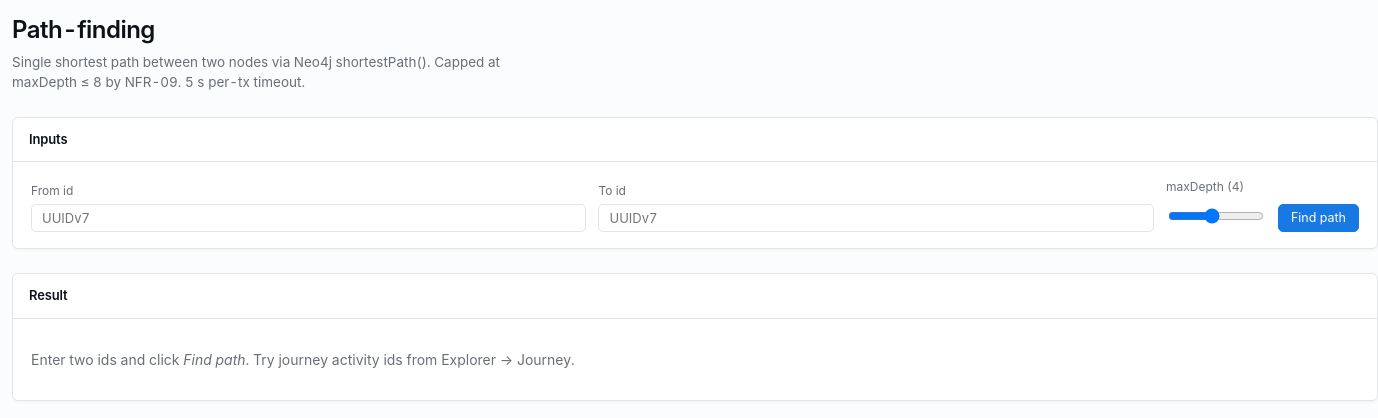
Test: ExplorerPath (FR-10 / AC-07) › (d) query_timeout → friendly banner
Type "node-a" into the field with test id "path-from" at point(309, 218), box top-left (31, 204), bottom-right (586, 232)
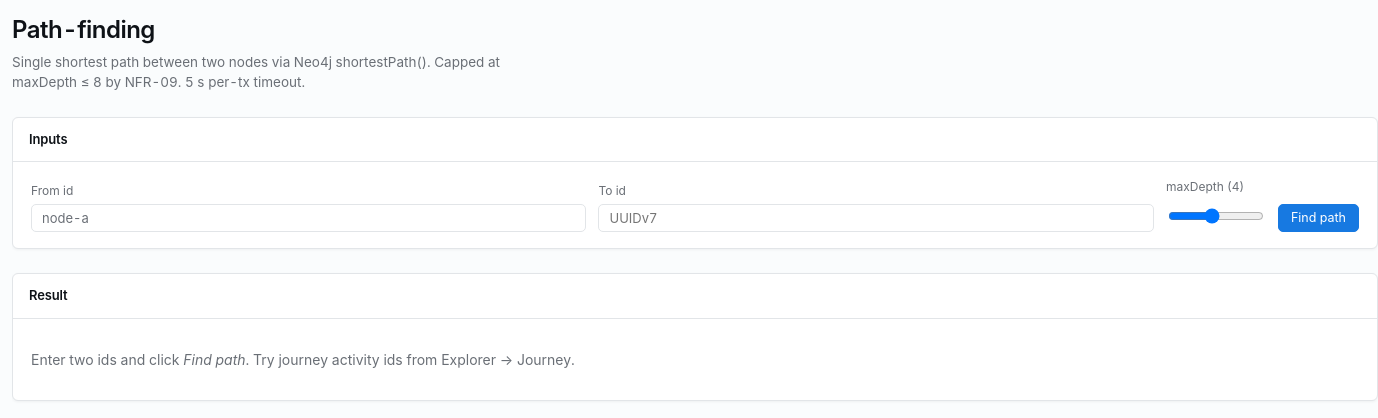
Type "node-b" into the field with test id "path-to" at point(876, 218), box top-left (598, 204), bottom-right (1154, 232)
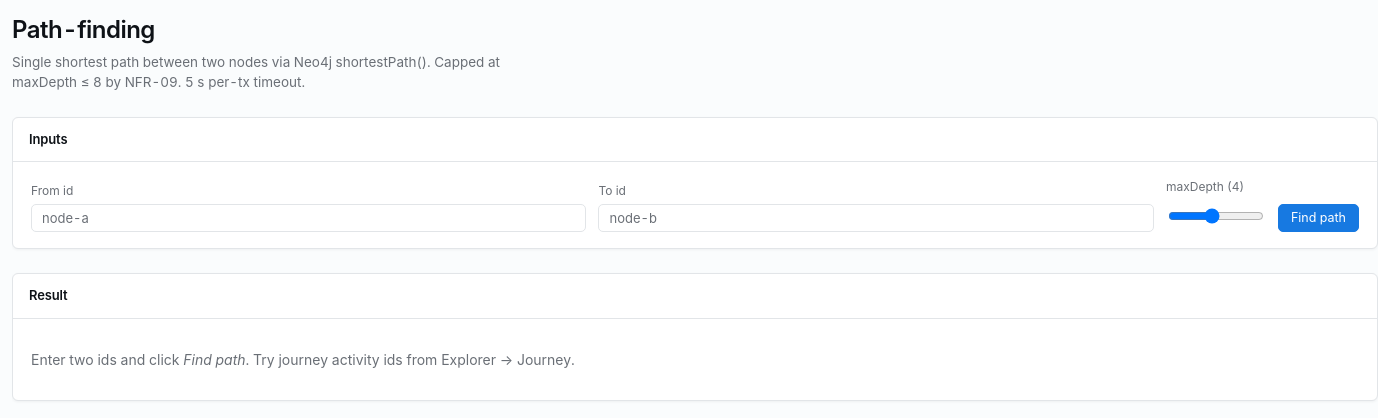
Click the button "Find path" at point(1318, 218), box top-left (1278, 204), bottom-right (1359, 232)
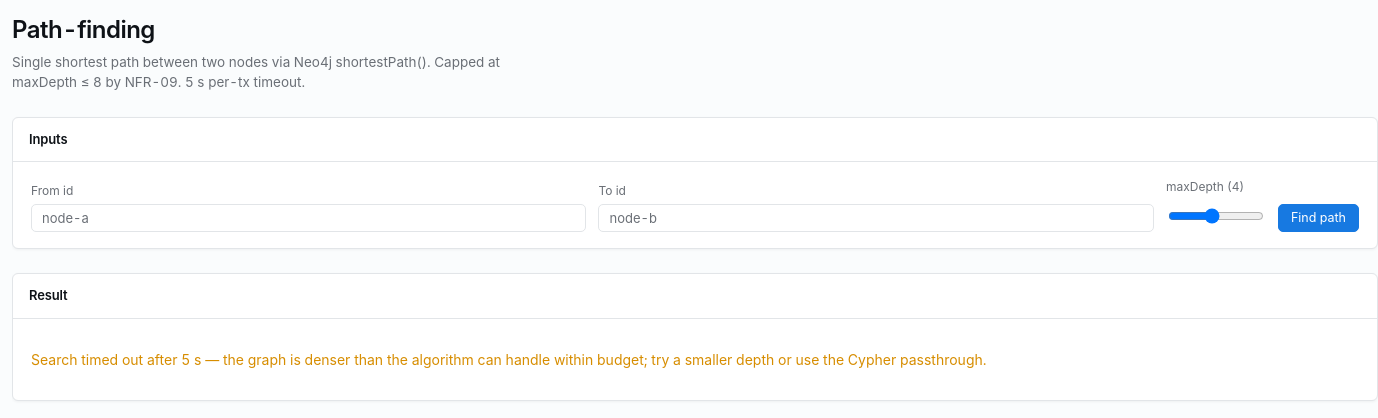
Result: the text with test id "path-timeout" is shown at top-left (31, 350), bottom-right (986, 368)
